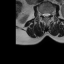CCS_normal: (45, 11, 47, 21)
LFS_normal: (49, 11, 52, 17)
LLS_normal: (47, 11, 49, 19)
RFS_normal: (40, 10, 42, 17)
RLS_normal: (42, 11, 45, 19)
